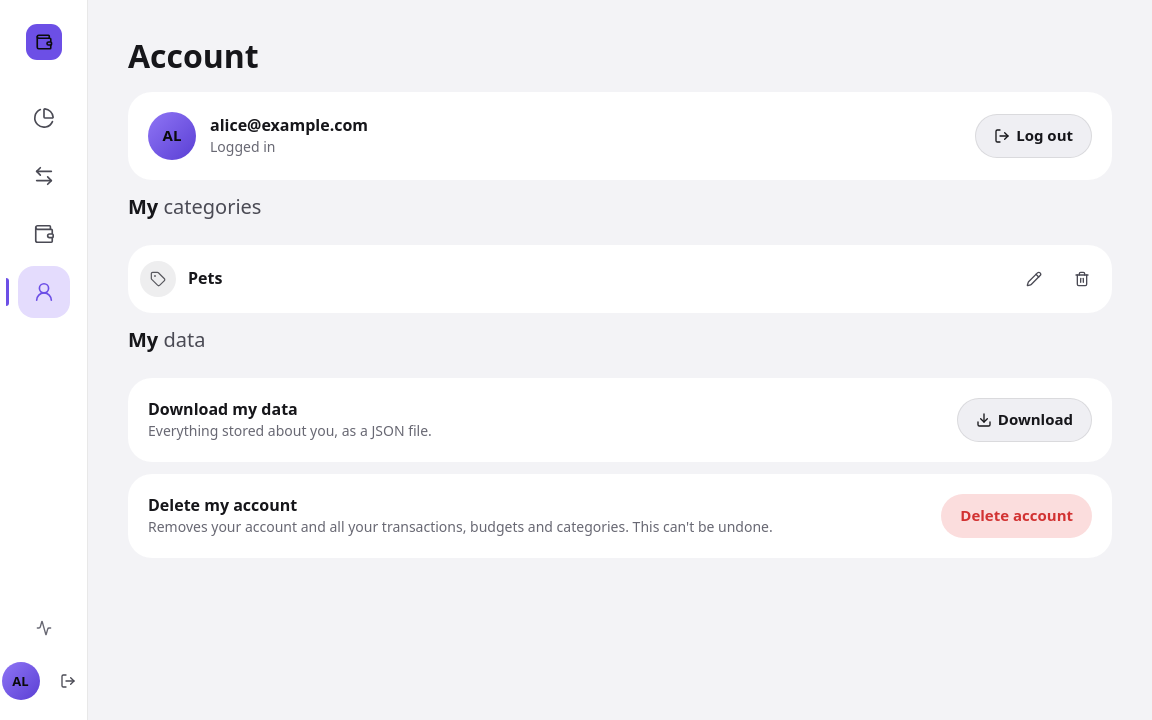
Test case: a duplicate name is explained
The image size is (1152, 720).
Click the button named "Rename Pets" at point(1034, 279), box left=1016, top=261, right=1052, bottom=297
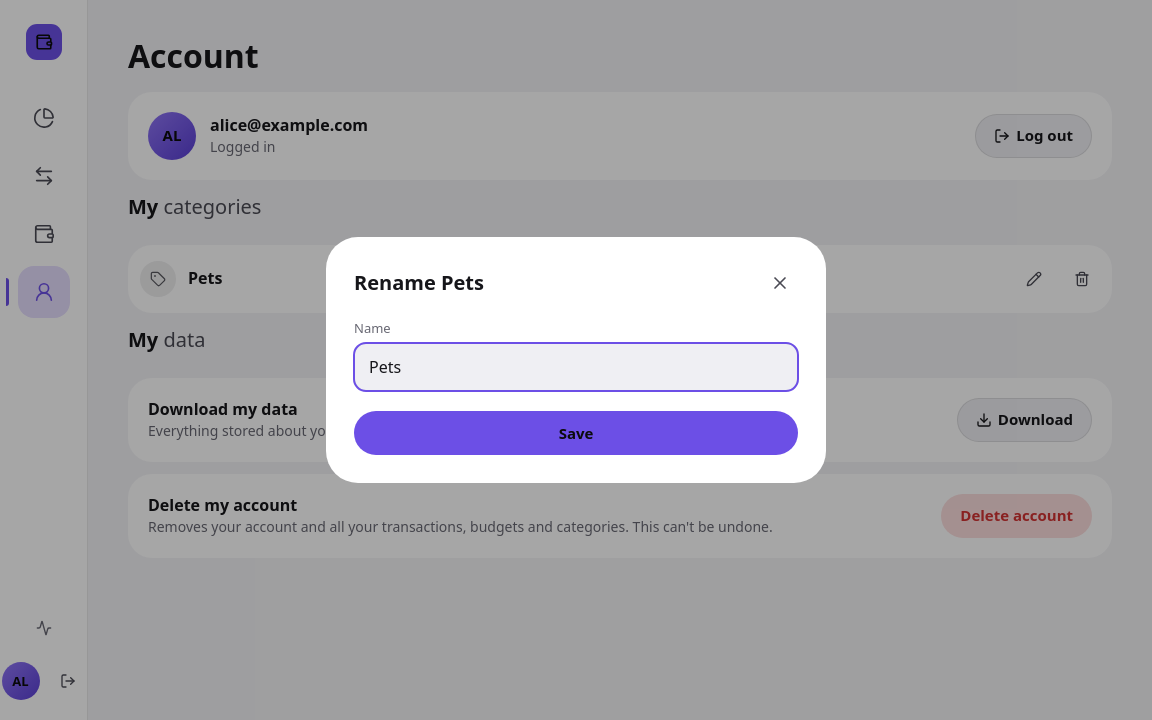
Replace the text in the field labelled "Name" with "Groceries" at point(576, 367), box left=354, top=343, right=798, bottom=391
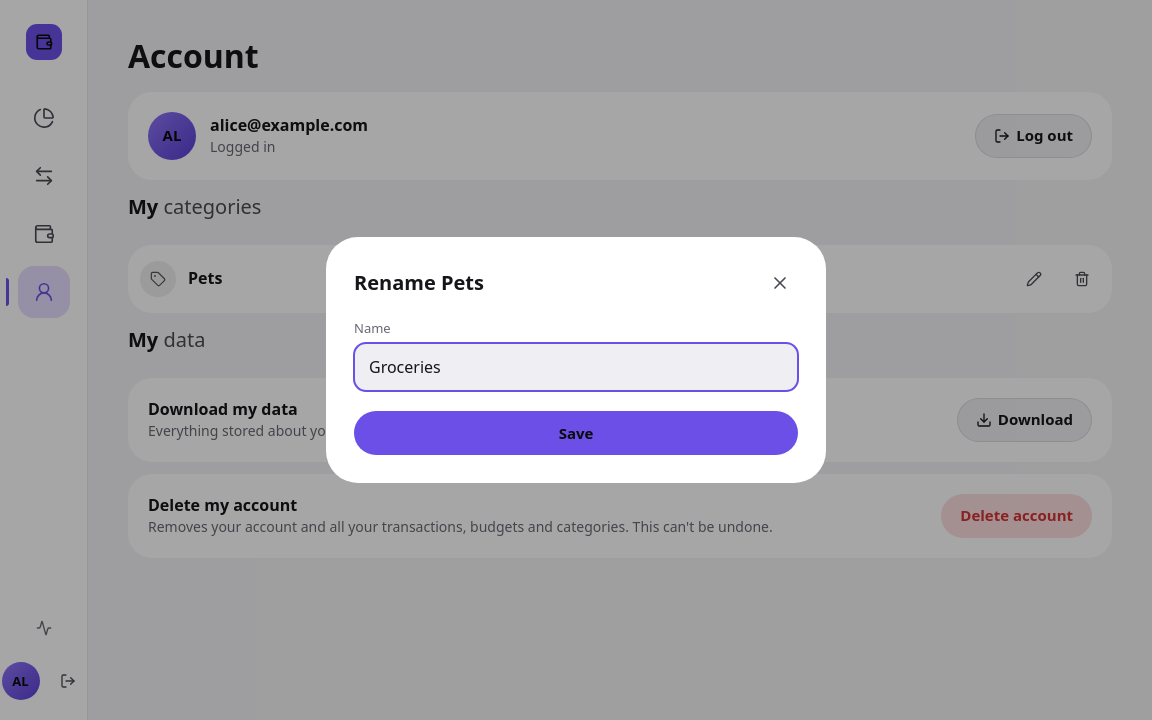
Click the button "Save" at point(576, 433), box left=354, top=411, right=798, bottom=455
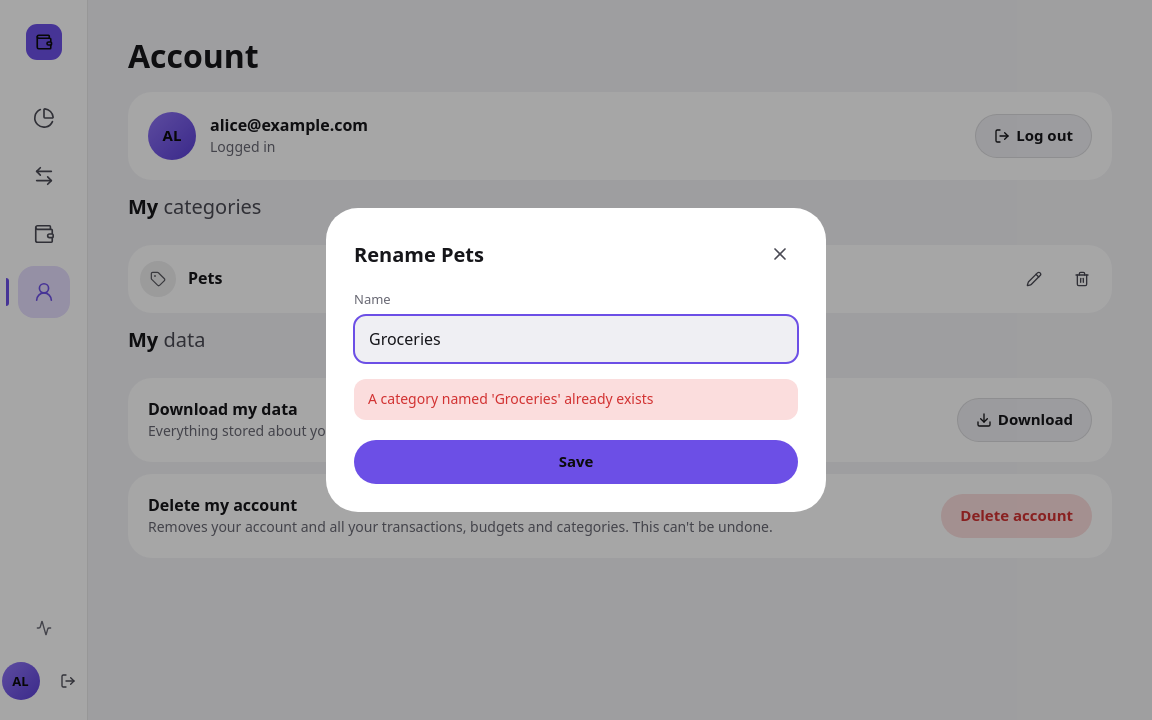
Now the message reads "A category named 'Groceries' already exists", box left=368, top=389, right=653, bottom=408
